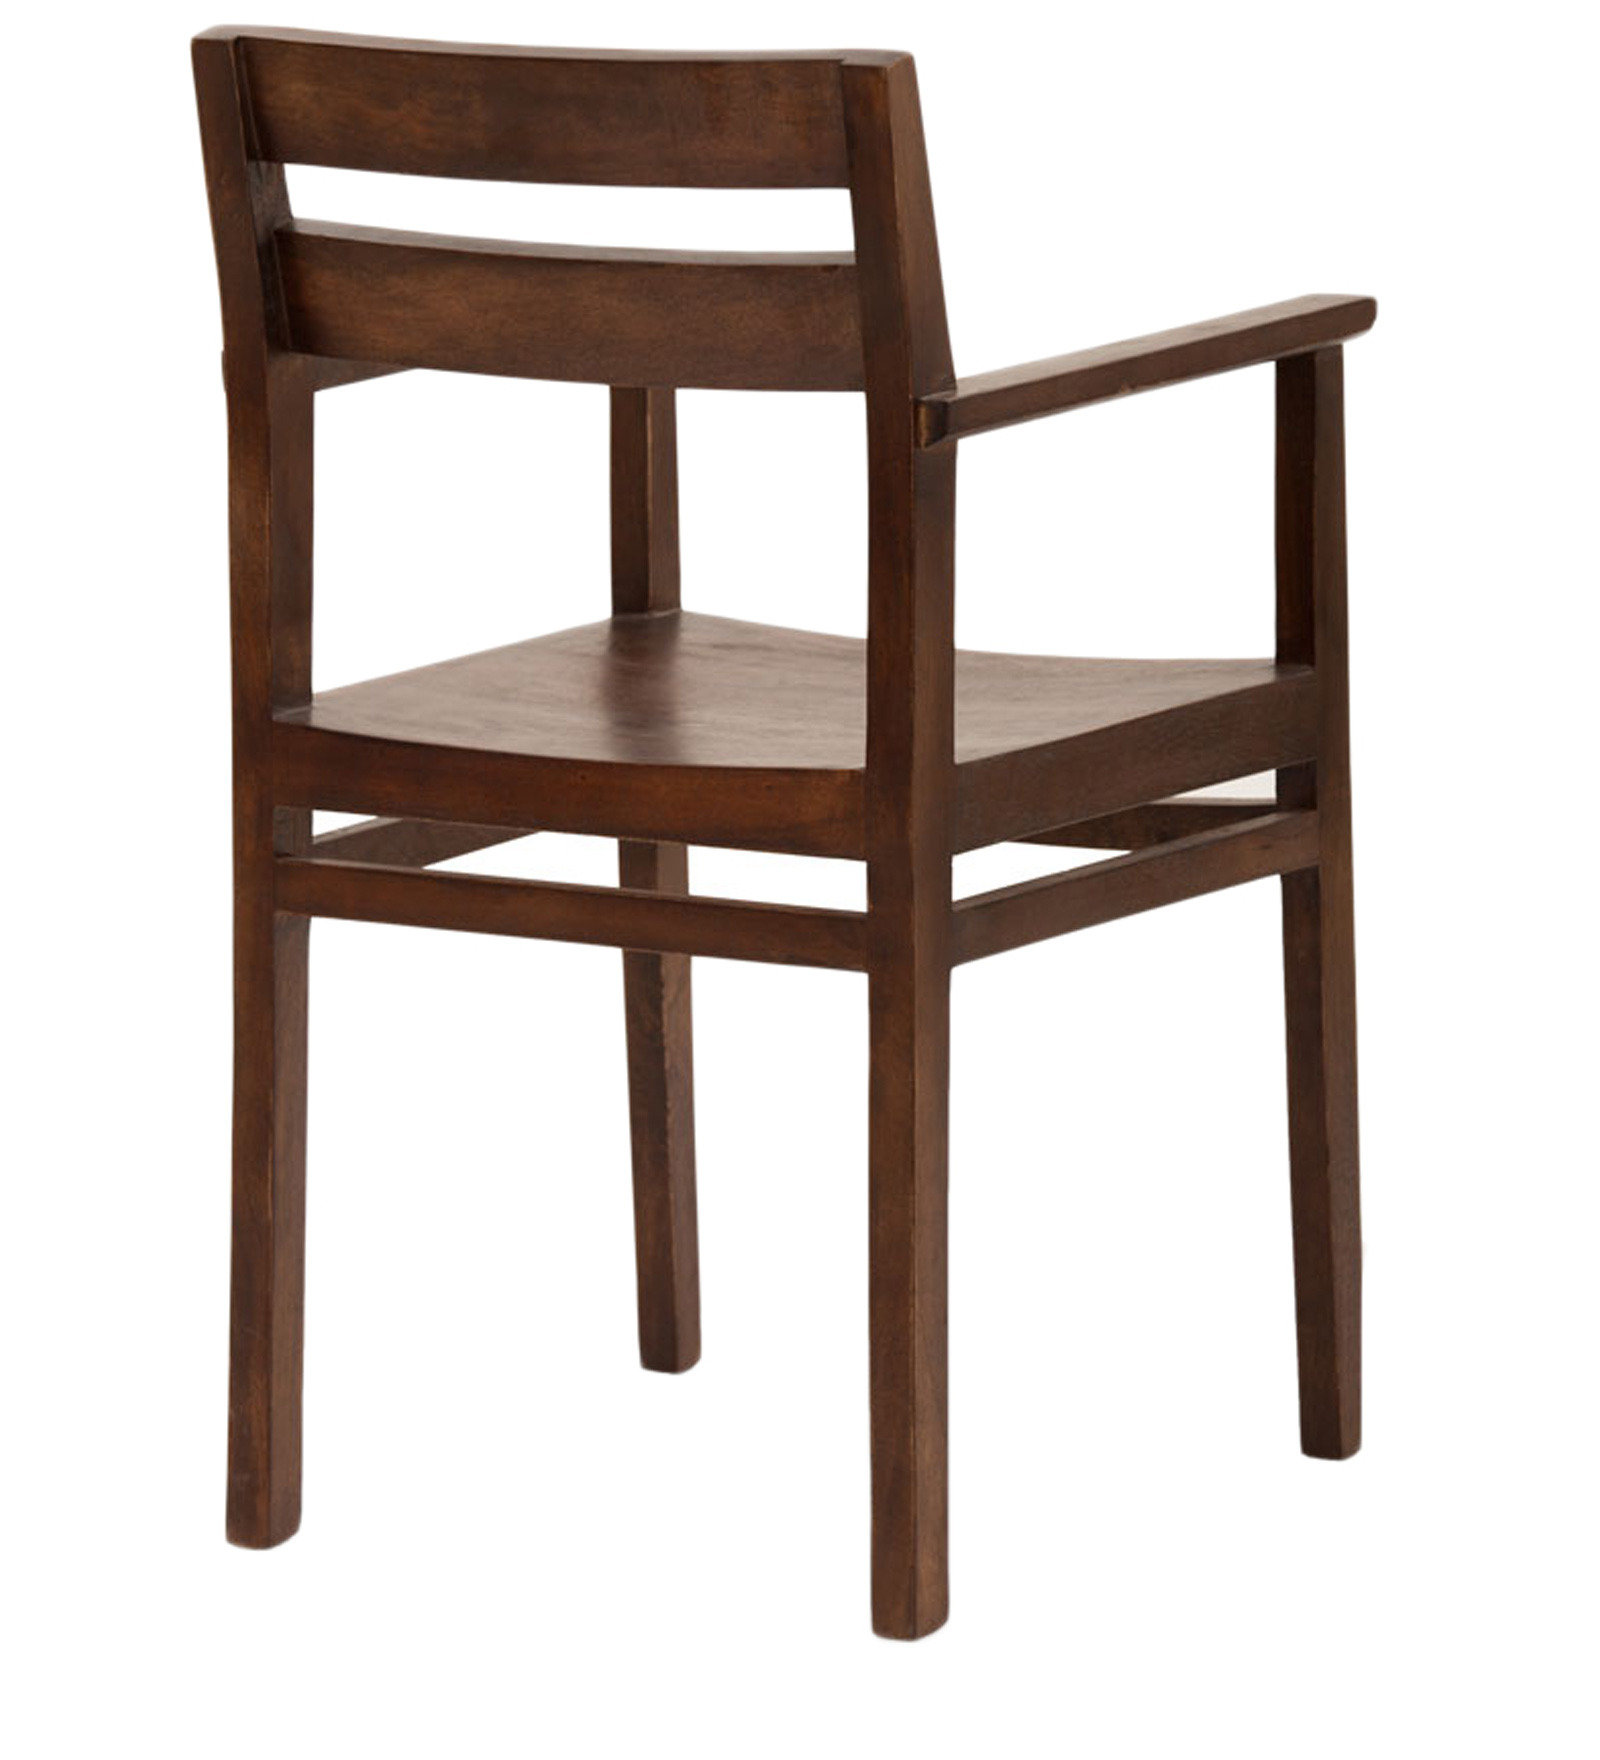Barcelona Solid Wood Arm Chair in Provincial Teak Finish by TheArmchair: (87, 2, 1427, 1647)
